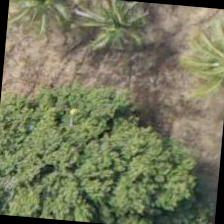Kelapa_Sawit: (70, 0, 167, 76), (6, 0, 91, 46)
